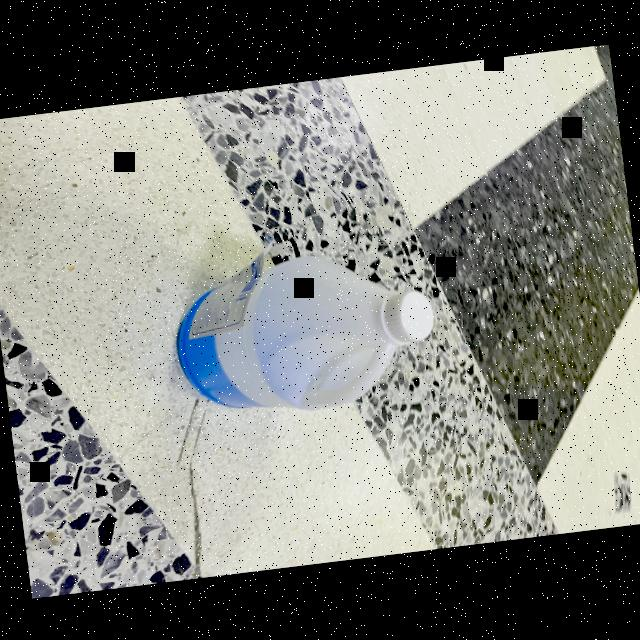chemical_plastic_gallon: (166, 238, 443, 427)
